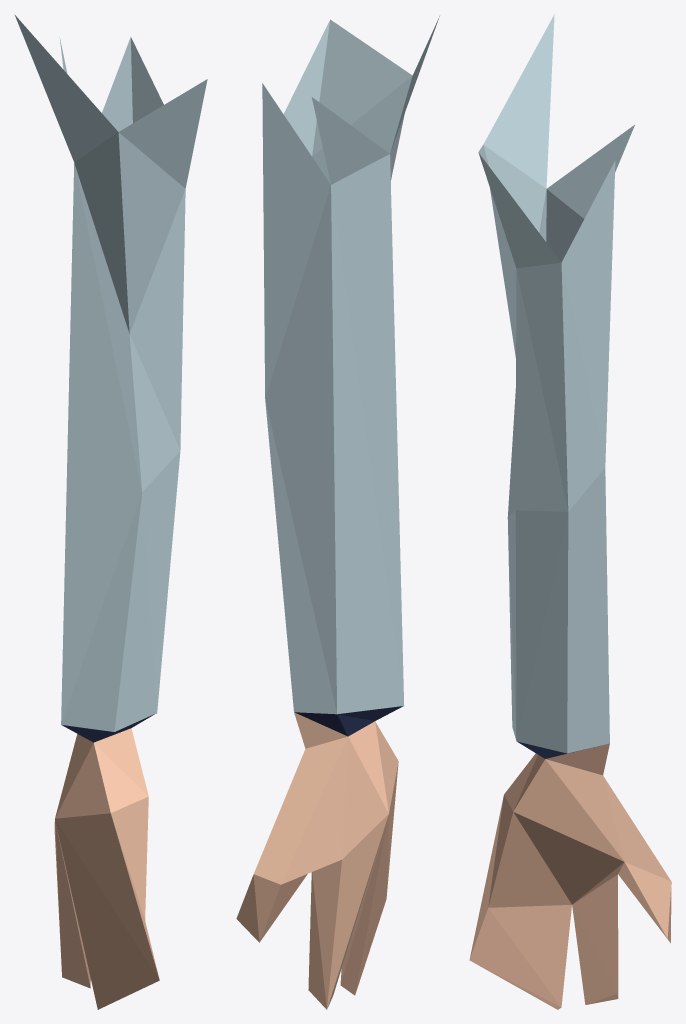
File: ArmL_Lo.obj
3 renders of one model, left to right at view 1: azimuth 30°, elevation 25°; view 2: azimuth 150°, elevation 25°; view 3: azimuth 270°, elevation 25°, orthographic. The views are drawn at different scales.
Bounding box in the file's own units: 0.163 × 0.909 × 0.174.
1 material, 1 textured.
